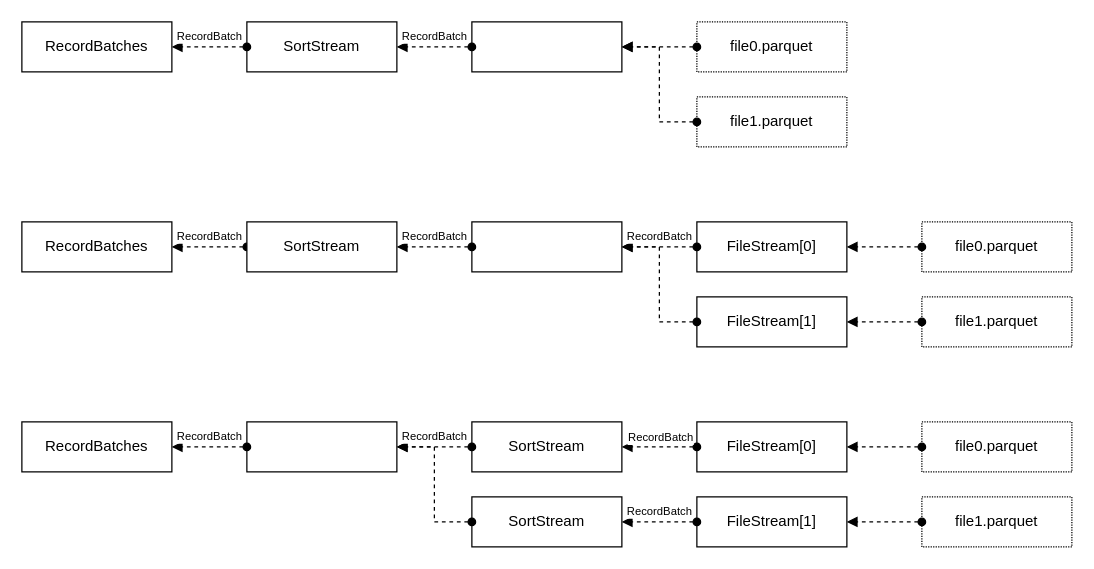
Some shapes in this 1094 by 569 pixel diagram are drawn without their labels. Each missing label, with the centre of its shape:
"CoalesceStream" goes at point (546, 246).
"FileStream" goes at point (546, 46).
"SortPreservingMerge Stream" goes at point (321, 446).
